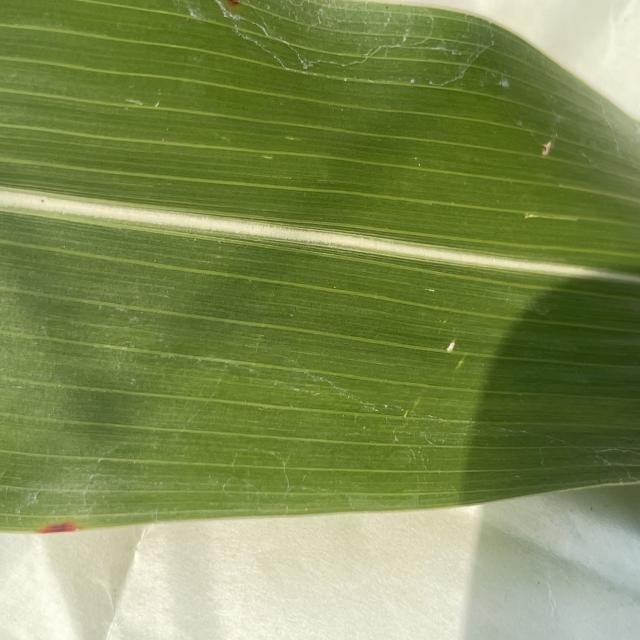millet_healthy: (0, 0, 640, 535)
